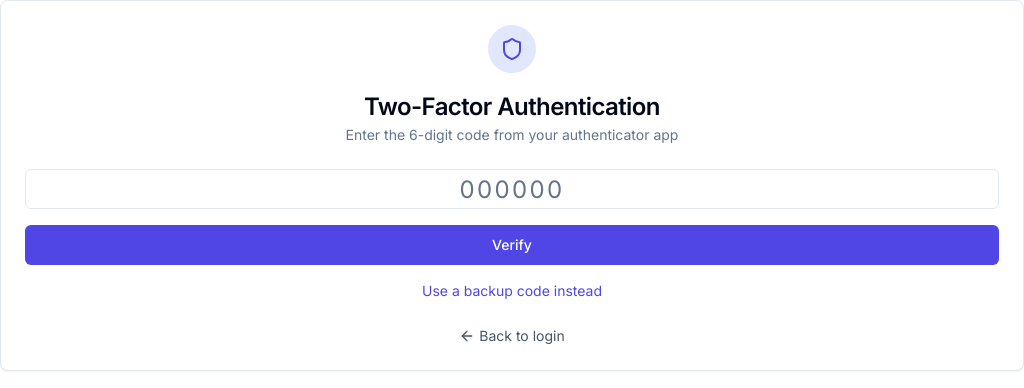
Test: TwoFactorPage › Backup Code Flow › should switch back to TOTP form
# Switch to backup code
Click the button "Use a backup code instead".
click(512, 291)  # box [25, 281, 999, 301]
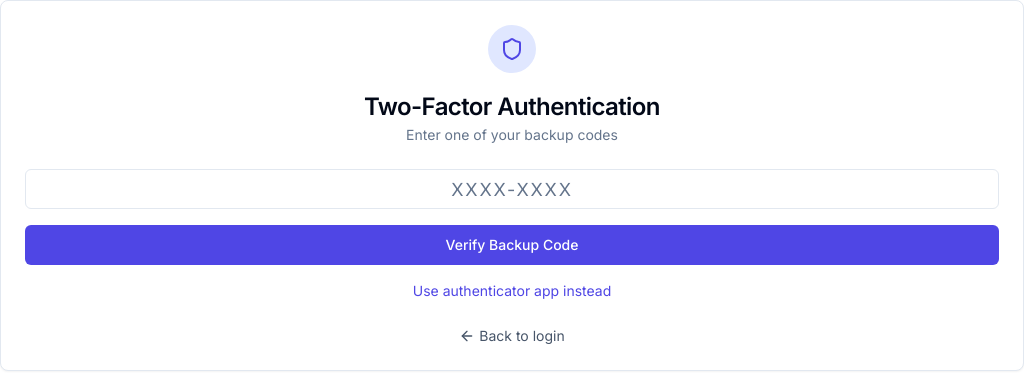
Result: the button "Use authenticator app instead" is shown
# Switch back
Click the button "Use authenticator app instead".
click(512, 291)  # box [25, 281, 999, 301]
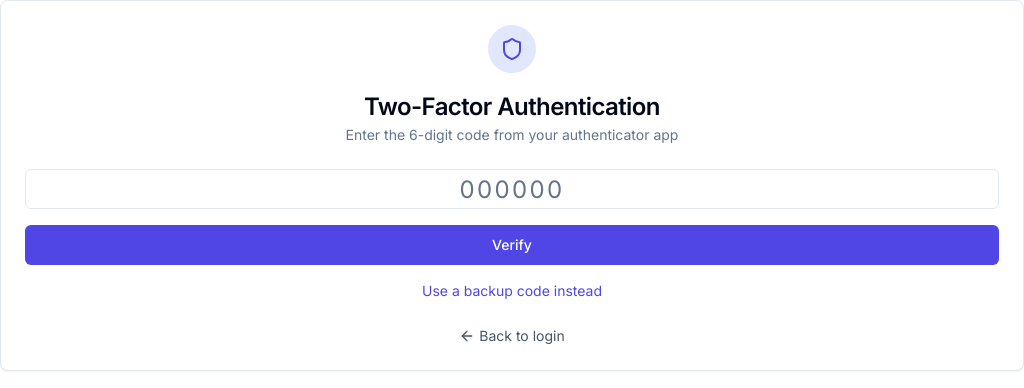
Result: the text "Enter the 6-digit code from your authenticator app" is shown at [346, 126, 678, 143]
